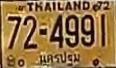1: (100, 14, 105, 46)
2: (23, 16, 36, 48)
4: (50, 14, 63, 47)
7: (7, 15, 21, 49)
9: (80, 14, 94, 46), (65, 15, 78, 46)
NPT: (37, 50, 80, 67)
